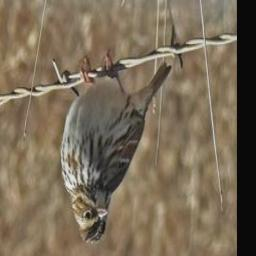Sparrow: (56, 49, 173, 246)
